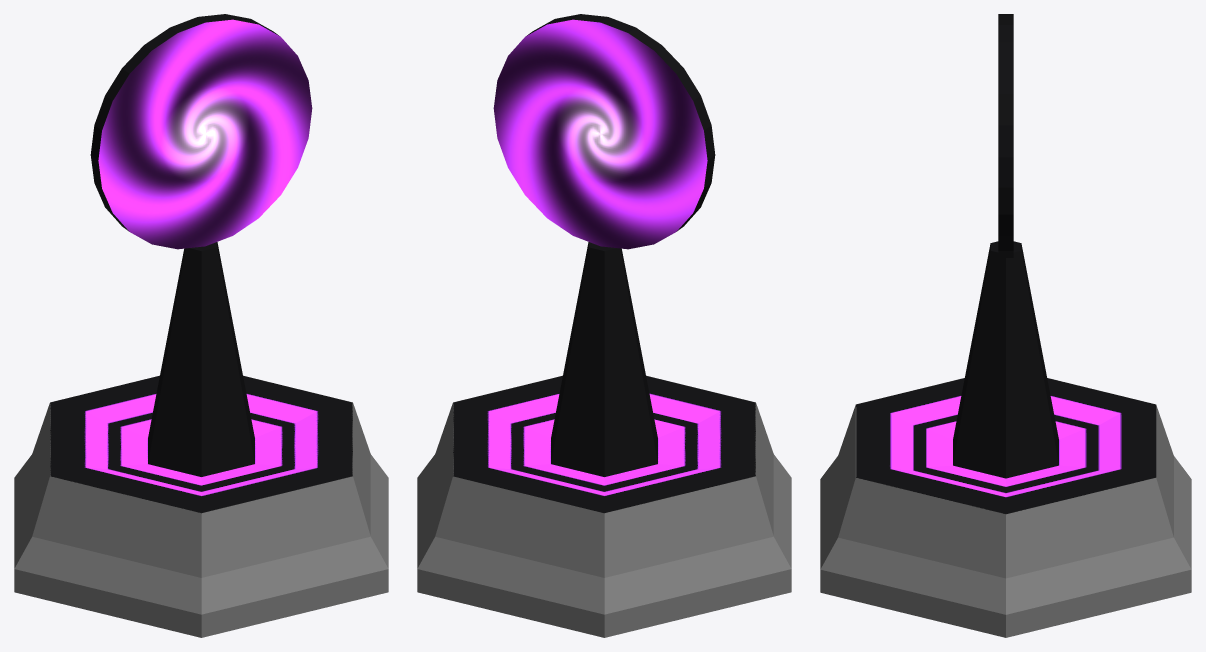
File: vortex_target.glb
3 views of the same model, side by side, from view 1: azimuth 30°, elevation 25°; view 2: azimuth 150°, elevation 25°; view 3: azimuth 270°, elevation 25° (orthographic).
Visible parts, largest first — view 1: vortex_target; view 2: vortex_target; view 3: vortex_target.
Boxes of the visible parts, x1,y1,x2,y2 form: vortex_target: [14, 14, 388, 637]; vortex_target: [417, 14, 791, 637]; vortex_target: [820, 14, 1191, 637].
Bounding box in the file's own units: 2.55 × 3.43 × 2.21.
Materials: 1 (1 with a texture image).
